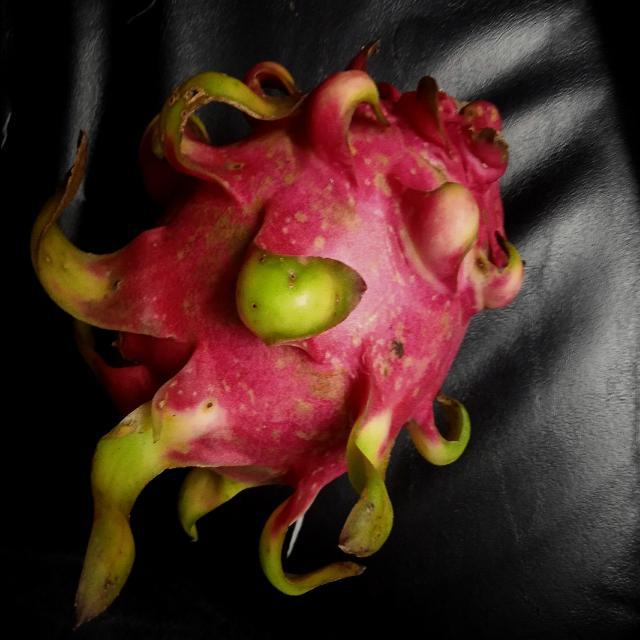do: (41, 54, 524, 632)
